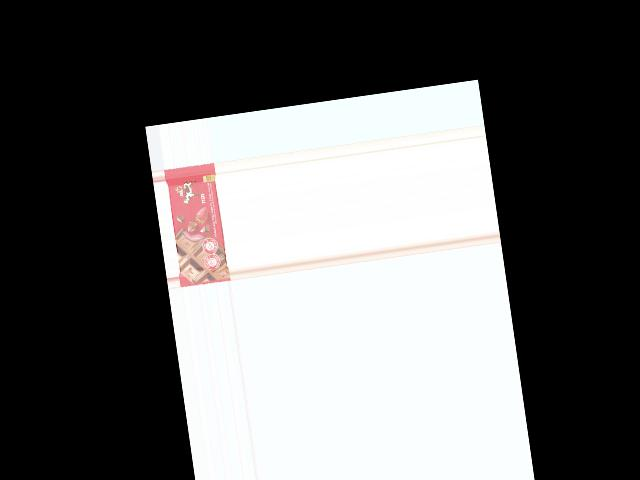chocolate: (164, 161, 231, 287)
